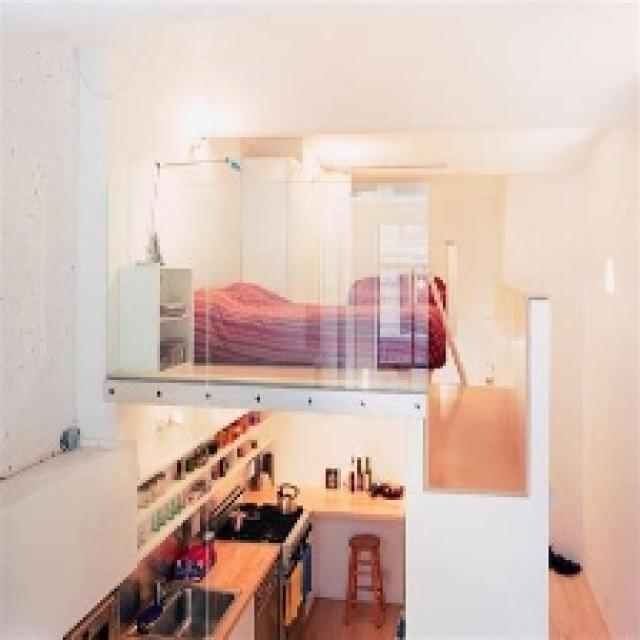cabinet: (121, 237, 192, 374)
seat: (348, 536, 386, 624)
